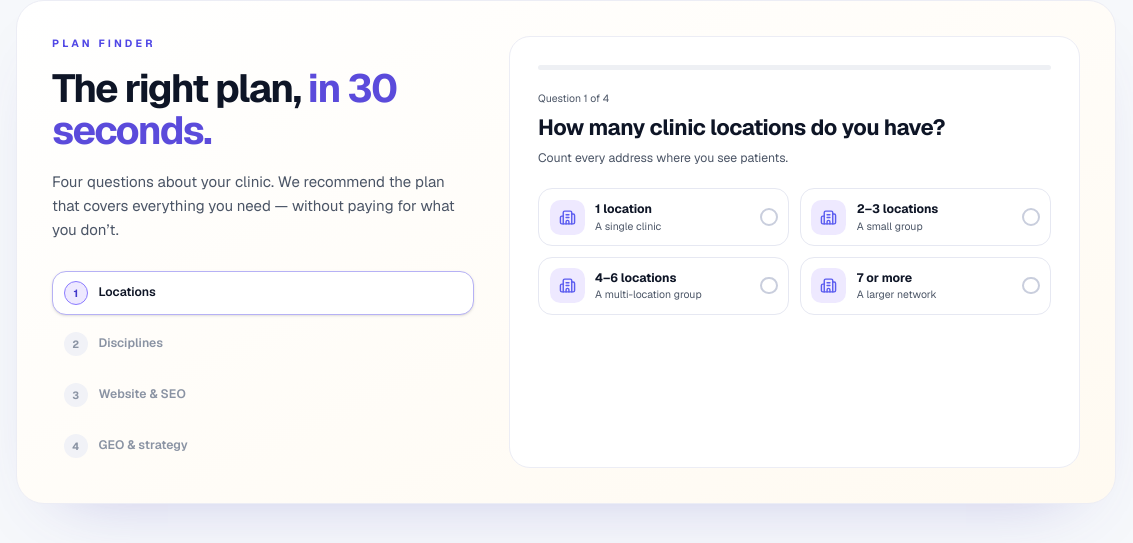
plan finder › asks four questions and recommends Growth for a small group wanting SEO
The image size is (1133, 543).
Expected: the text "Question 1 of 4" is shown, [538, 91, 609, 105]
Click the radio button labelled "2–3 locations A small group" at {"x": 925, "y": 217}, box [800, 188, 1051, 246]
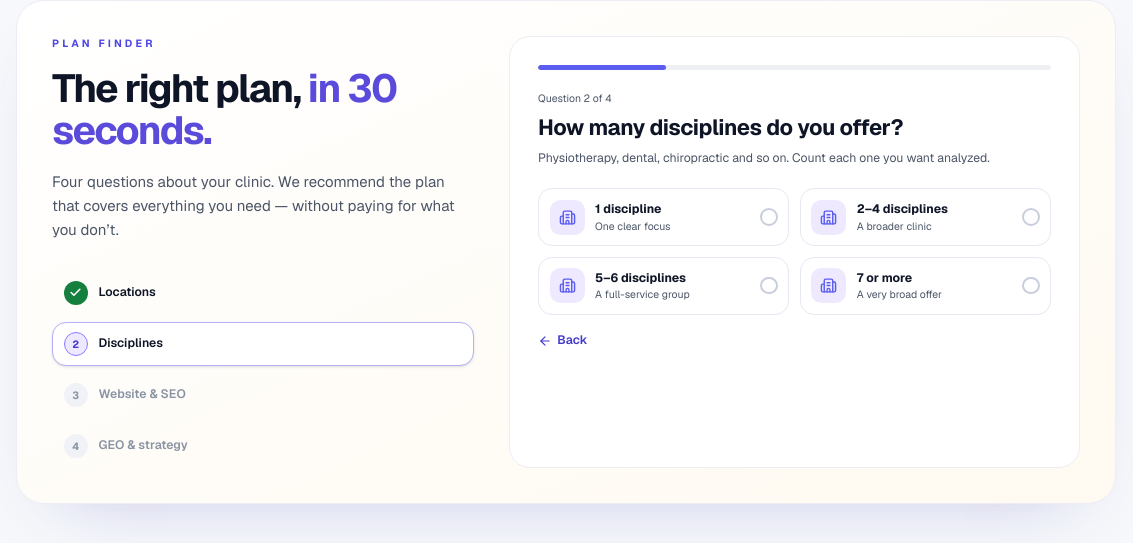
Click the radio button labelled "1 discipline One clear focus" at {"x": 664, "y": 217}, box [538, 188, 789, 246]
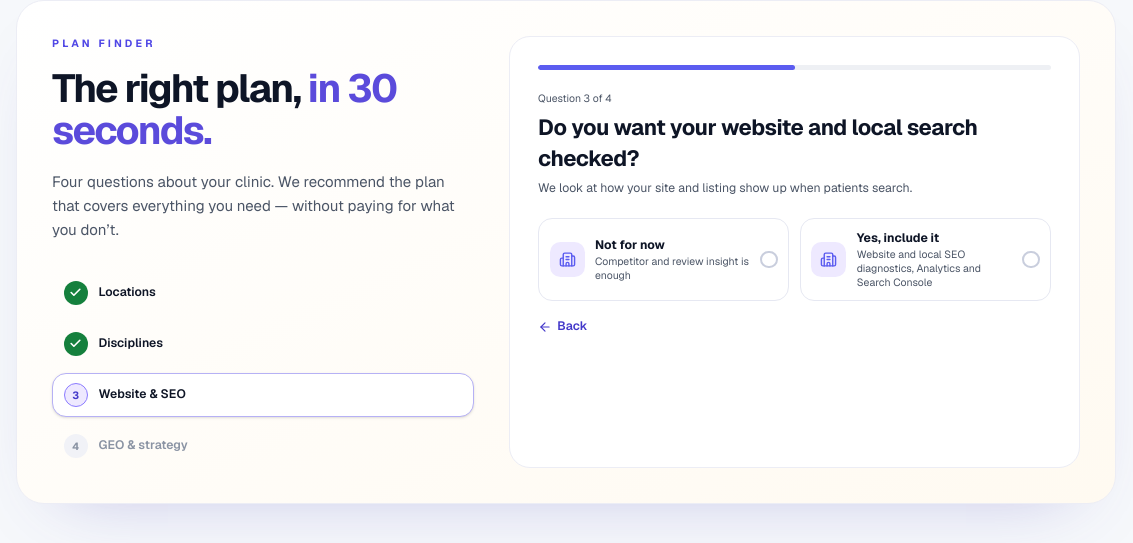
Click the radio button labelled "Yes, include it" at {"x": 925, "y": 260}, box [800, 218, 1051, 301]
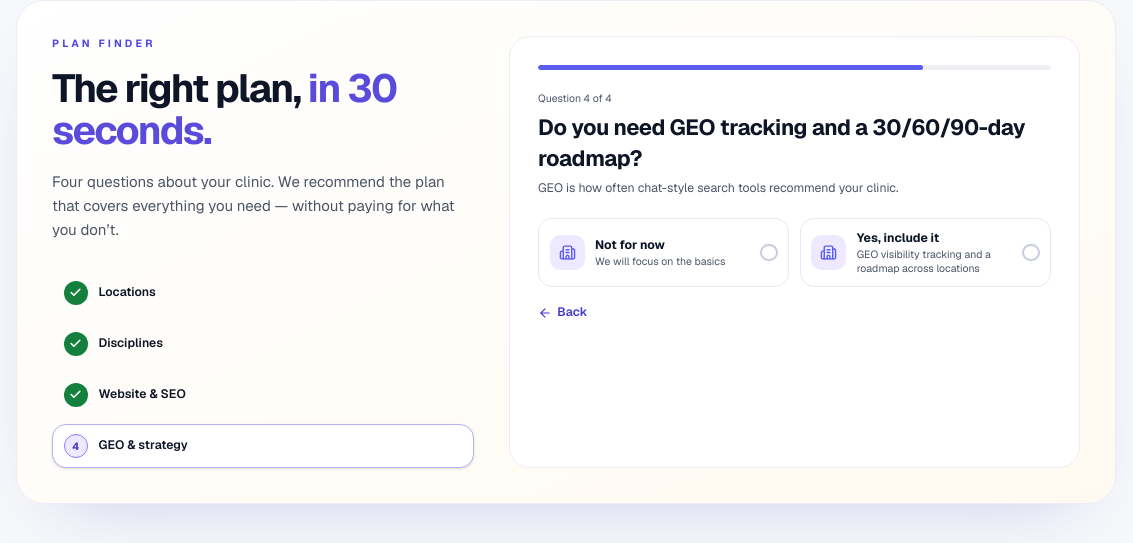
Expected: the text "Question 4 of 4" is shown, [538, 91, 612, 105]
Click the radio button labelled "Not for now We will focus on the basics" at {"x": 664, "y": 253}, box [538, 218, 789, 287]
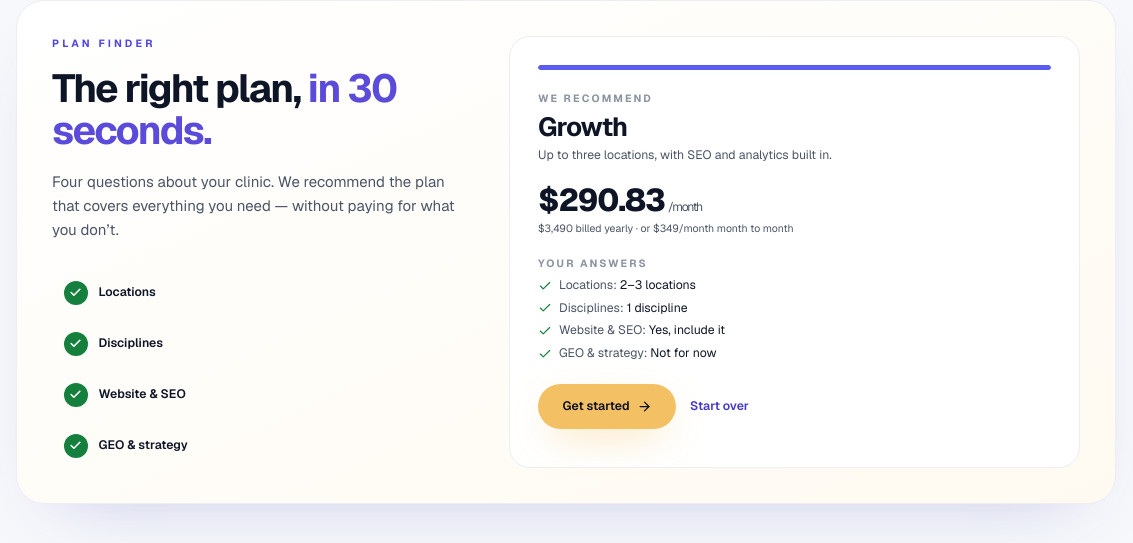
Expected: the heading "Growth" is shown, [538, 110, 627, 144]
Expected: the text "$290.83" is shown, [538, 179, 665, 220]
